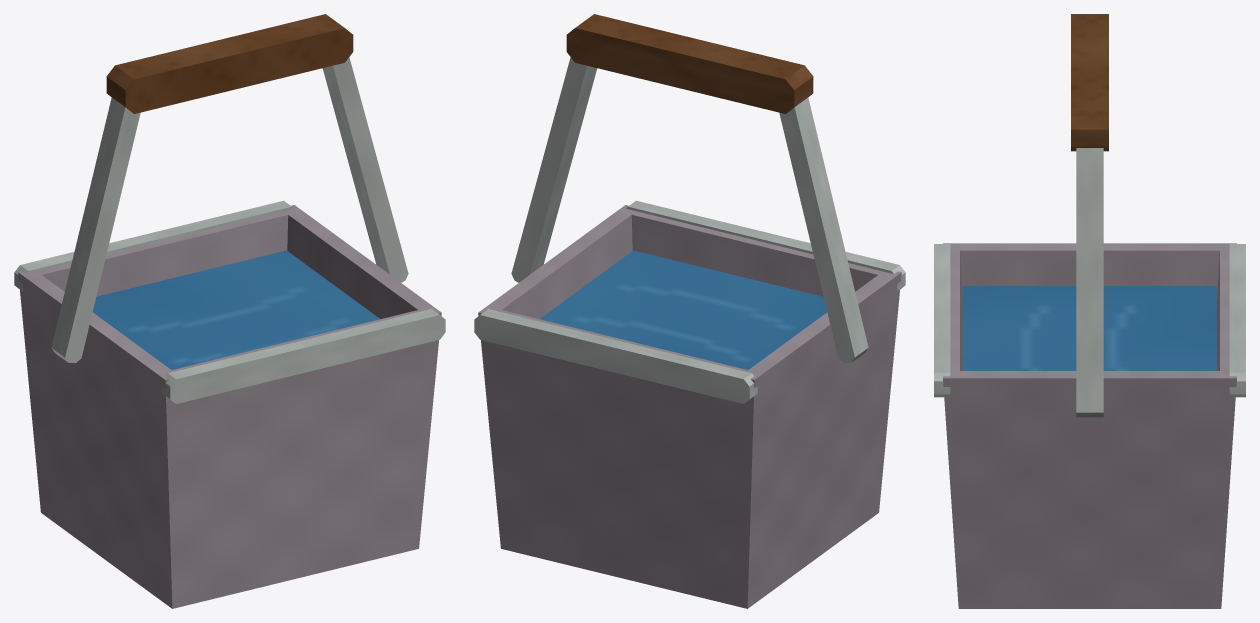
The picture shows the model from 3 angles, left to right: view 1: azimuth 30°, elevation 25°; view 2: azimuth 150°, elevation 25°; view 3: azimuth 270°, elevation 25°; orthographic projection.
Visible parts, largest first — view 1: bucket, water_surface; view 2: bucket, water_surface; view 3: bucket, water_surface.
Part boxes in pixels (left/top/right/bottom): bucket: left=14, top=14, right=445, bottom=608; water_surface: left=93, top=250, right=380, bottom=369; bucket: left=474, top=14, right=905, bottom=608; water_surface: left=539, top=250, right=826, bottom=369; bucket: left=934, top=14, right=1245, bottom=608; water_surface: left=963, top=286, right=1216, bottom=370.
Bounding box in the file's own units: 0.1525 × 0.2053 × 0.12.
4 materials, 4 textured.
